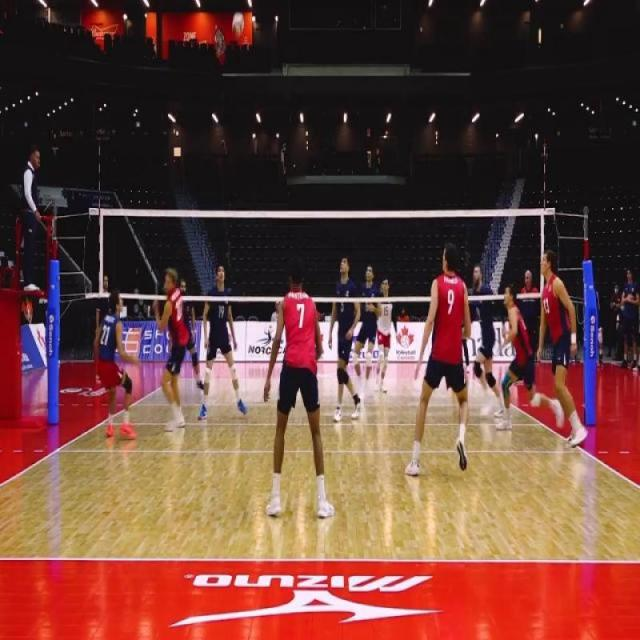volleyball: (232, 10, 244, 39)
